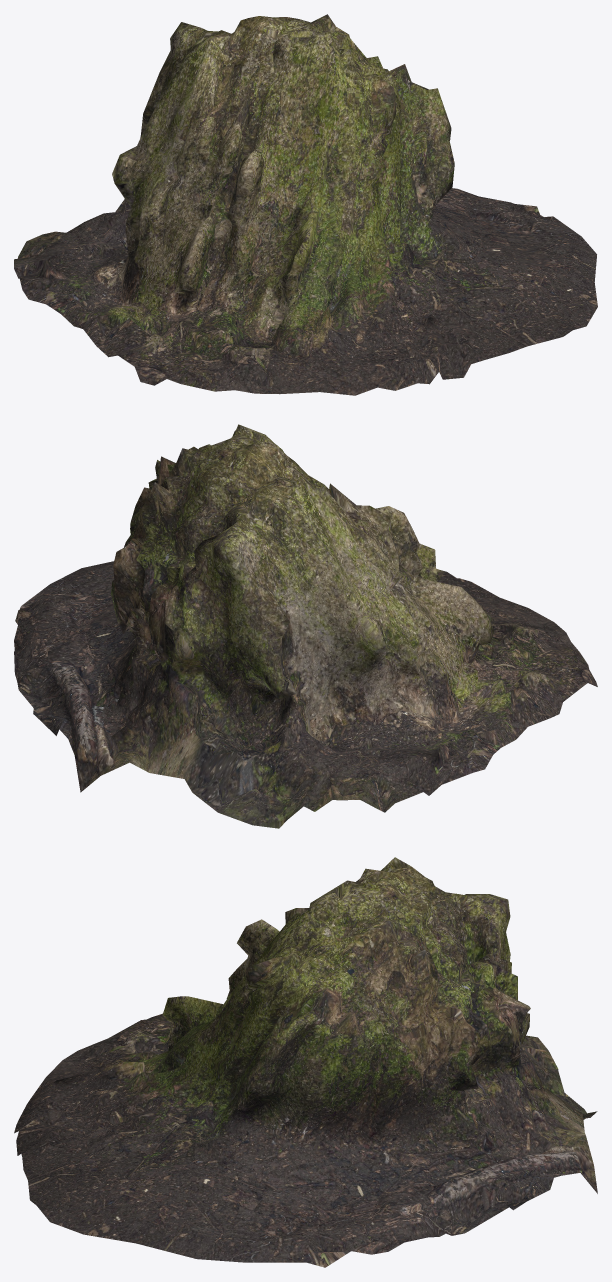
Rendered from PX_Stump_11_LOD4.fbx.
3 renders of one model, top to bottom at view 1: azimuth 30°, elevation 25°; view 2: azimuth 150°, elevation 25°; view 3: azimuth 270°, elevation 25°, orthographic. The views are drawn at different scales.
Visible parts, largest first — view 1: PX_Stump_11_LOD4; view 2: PX_Stump_11_LOD4; view 3: PX_Stump_11_LOD4.
Boxes of the visible parts, <box> form: PX_Stump_11_LOD4: <box>14,14,597,395</box>; PX_Stump_11_LOD4: <box>14,424,597,828</box>; PX_Stump_11_LOD4: <box>14,857,597,1267</box>.
Size of the model in its own units: 55.28 by 29.62 by 53.38.
